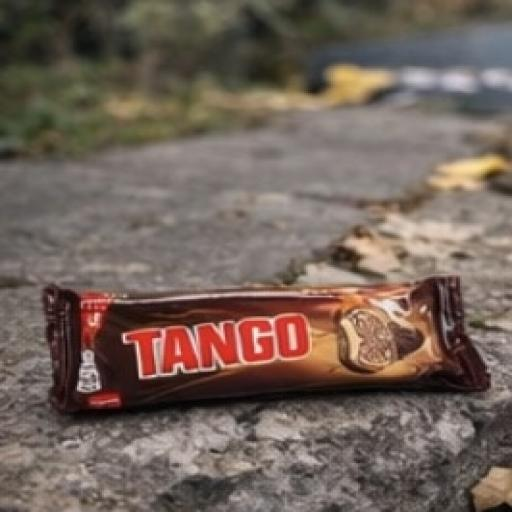tango: (41, 257, 512, 438)
